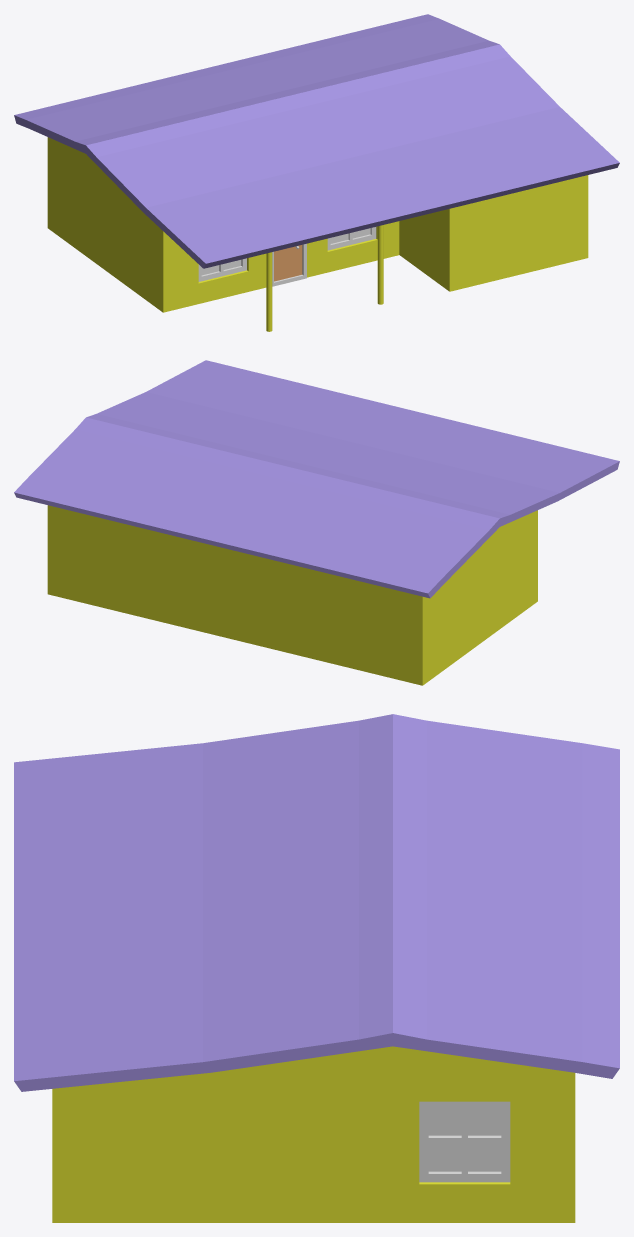
The model's file is House2.fbx.
3 views of the same model, one above another, from view 1: azimuth 30°, elevation 25°; view 2: azimuth 150°, elevation 25°; view 3: azimuth 270°, elevation 25° (orthographic). The views are drawn at different scales.
Parts seen in each view (by area): view 1: Roof, Test, Window1, Door, Henger; view 2: Roof, Test; view 3: Roof, Test, Window2.
Part boxes in pixels (<box>): Roof: <box>14,14,619,268</box>; Test: <box>47,137,588,312</box>; Window1: <box>198,227,376,281</box>; Door: <box>272,243,306,286</box>; Henger: <box>266,225,383,331</box>; Roof: <box>14,360,619,598</box>; Test: <box>47,505,537,685</box>; Roof: <box>14,714,619,1091</box>; Test: <box>52,1046,575,1222</box>; Window2: <box>419,1101,510,1182</box>.
Size of the model in its own units: 3313 by 993 by 2660.
